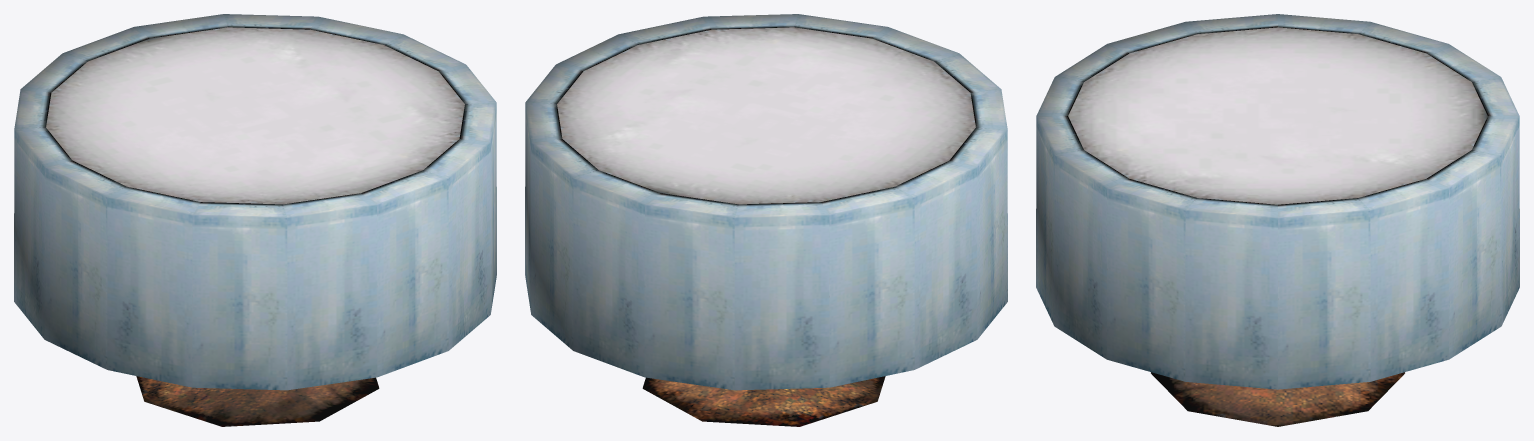
File: thm_frn_table_s01_l1.fbx
3 views of the same model, side by side, from view 1: azimuth 30°, elevation 25°; view 2: azimuth 150°, elevation 25°; view 3: azimuth 270°, elevation 25° (orthographic).
Parts seen in each view (by area): view 1: mesh_node; view 2: mesh_node; view 3: mesh_node.
Part boxes in pixels (bbox=[...]): mesh_node: bbox=[14, 14, 496, 426]; mesh_node: bbox=[525, 14, 1007, 426]; mesh_node: bbox=[1036, 14, 1519, 426].
Bounding box in the file's own units: 1.28 × 0.7504 × 1.28.
Materials: 1 (1 with a texture image).
